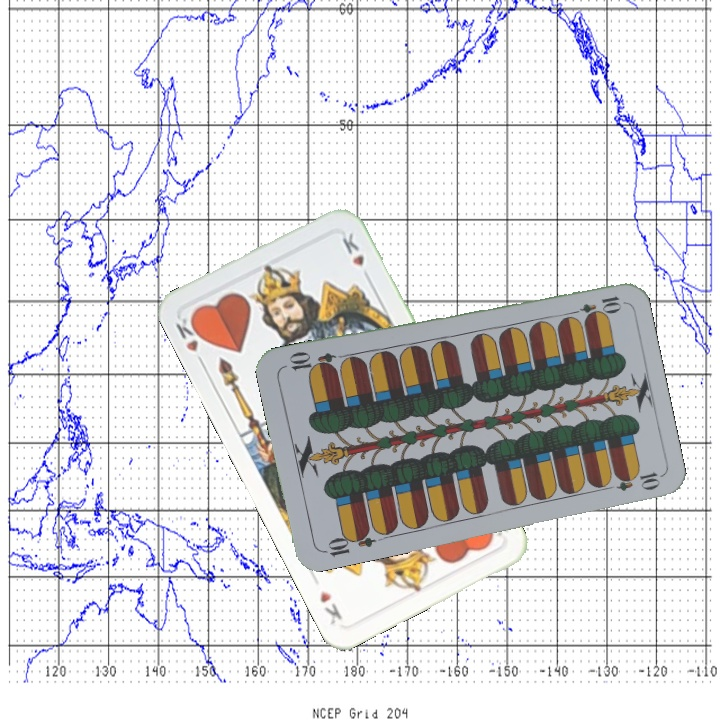E10: (319, 525, 377, 560), (565, 291, 624, 320)
HK: (171, 311, 209, 369)
